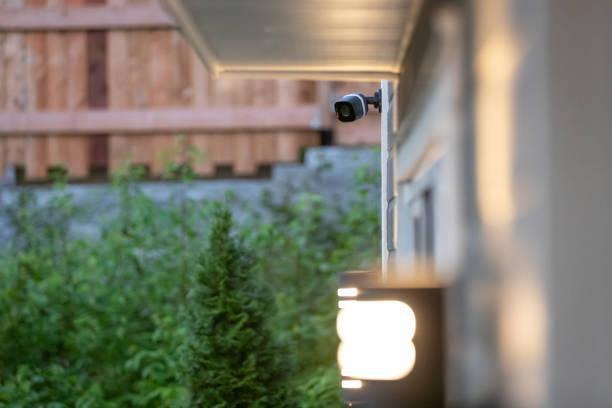camera: (325, 85, 377, 132)
